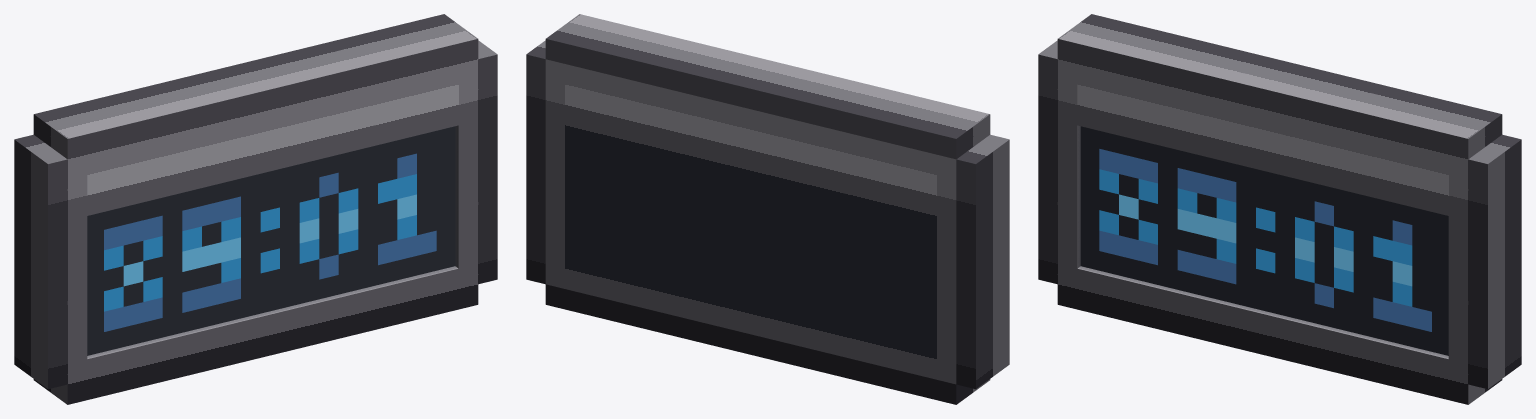
The model's file is digital_clock_8901.glb.
The picture shows the model from 3 angles, left to right: view 1: azimuth 30°, elevation 25°; view 2: azimuth 150°, elevation 25°; view 3: azimuth 330°, elevation 25°; orthographic projection.
Parts seen in each view (by area): view 1: Continuous_Stepped_Housing, Closed_Tinted_Glass, Recessed_Display, Hours_Ones_Overlay, Hours_Tens_Overlay, Minutes_Tens_Overlay, Minutes_Ones_Overlay, Separator_Overlay; view 2: Continuous_Stepped_Housing; view 3: Continuous_Stepped_Housing, Closed_Tinted_Glass, Recessed_Display, Hours_Ones_Overlay, Hours_Tens_Overlay, Minutes_Ones_Overlay, Minutes_Tens_Overlay, Separator_Overlay.
Part boxes in pixels (box(x1,y1,x2,y2)): Continuous_Stepped_Housing: box(14, 14, 497, 404); Closed_Tinted_Glass: box(88, 126, 457, 356); Recessed_Display: box(87, 126, 455, 355); Hours_Ones_Overlay: box(182, 196, 240, 312); Hours_Tens_Overlay: box(104, 215, 162, 331); Minutes_Tens_Overlay: box(299, 172, 358, 279); Minutes_Ones_Overlay: box(378, 153, 436, 265); Separator_Overlay: box(260, 207, 279, 273); Continuous_Stepped_Housing: box(526, 14, 1009, 404); Continuous_Stepped_Housing: box(1038, 14, 1521, 404); Closed_Tinted_Glass: box(1078, 126, 1447, 357); Recessed_Display: box(1080, 126, 1448, 355); Hours_Ones_Overlay: box(1177, 168, 1236, 284); Hours_Tens_Overlay: box(1099, 149, 1157, 265); Minutes_Ones_Overlay: box(1373, 220, 1431, 331); Minutes_Tens_Overlay: box(1295, 201, 1353, 308); Separator_Overlay: box(1256, 207, 1275, 273).
Bounding box in the file's own units: 0.6469 × 0.3656 × 0.0844.
3 materials, 3 textured.
